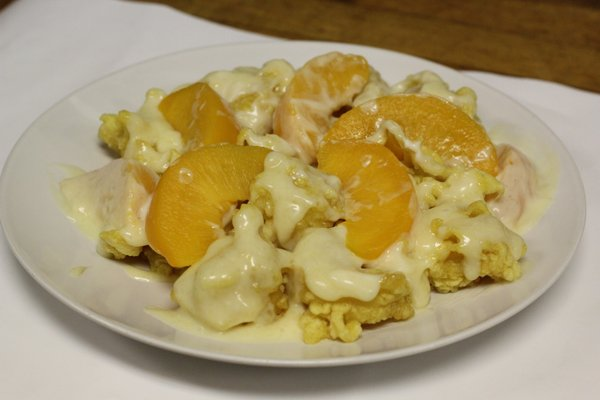taco: (145, 143, 270, 268), (159, 82, 239, 147)
